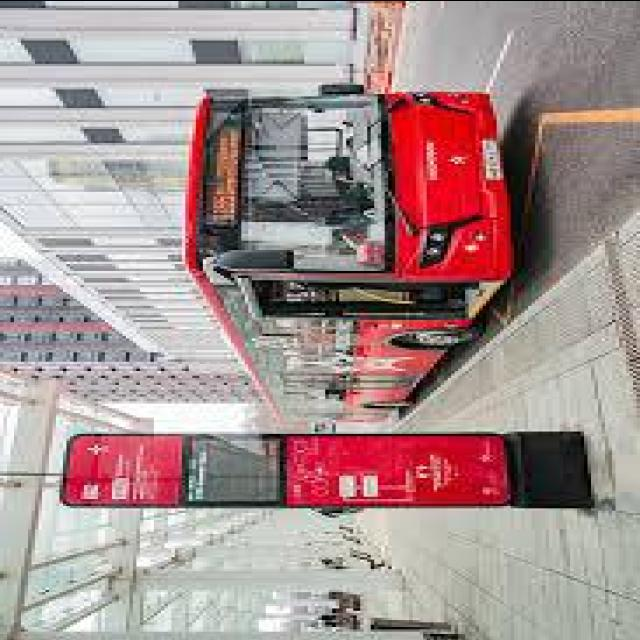bus: (175, 84, 521, 424)
